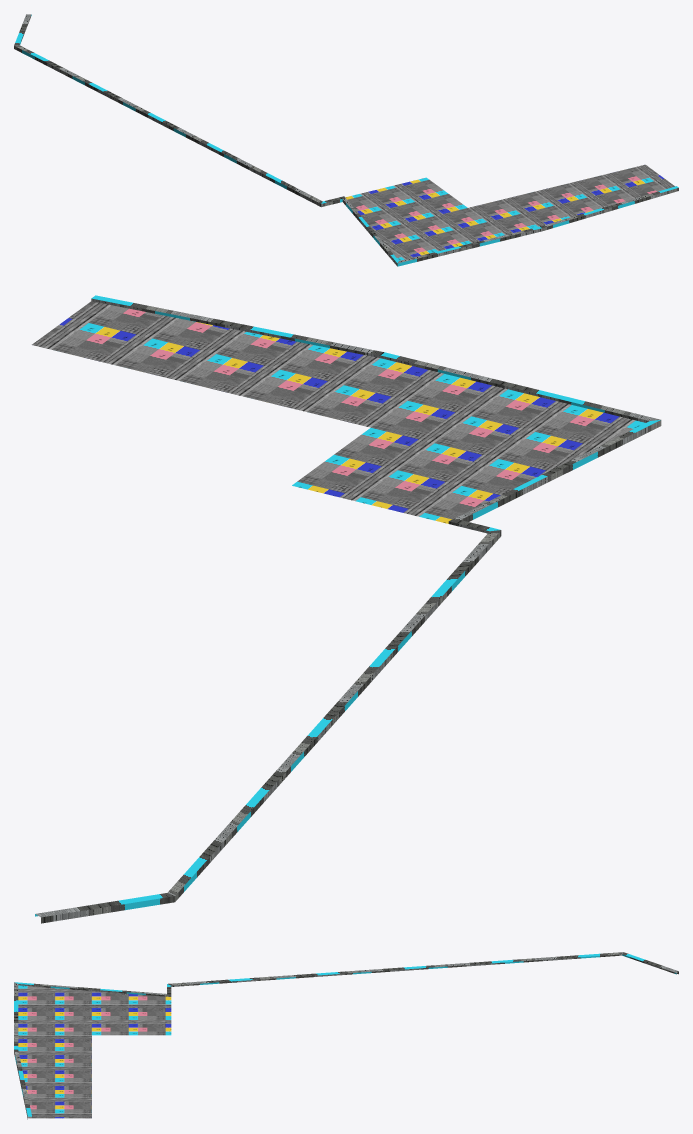
The model's file is chinatown_pavement_4.fbx.
The picture shows the model from 3 angles, top to bottom: view 1: azimuth 30°, elevation 25°; view 2: azimuth 150°, elevation 25°; view 3: azimuth 270°, elevation 25°; orthographic projection. The views are drawn at different scales.
Visible parts, largest first — view 1: chinatown_pavement_4; view 2: chinatown_pavement_4; view 3: chinatown_pavement_4.
Boxes of the visible parts, left/top/right/bottom form: chinatown_pavement_4: left=14, top=14, right=678, bottom=266; chinatown_pavement_4: left=32, top=295, right=661, bottom=923; chinatown_pavement_4: left=14, top=952, right=678, bottom=1119.
Size of the model in its own units: 1587 by 13.87 by 2708.
